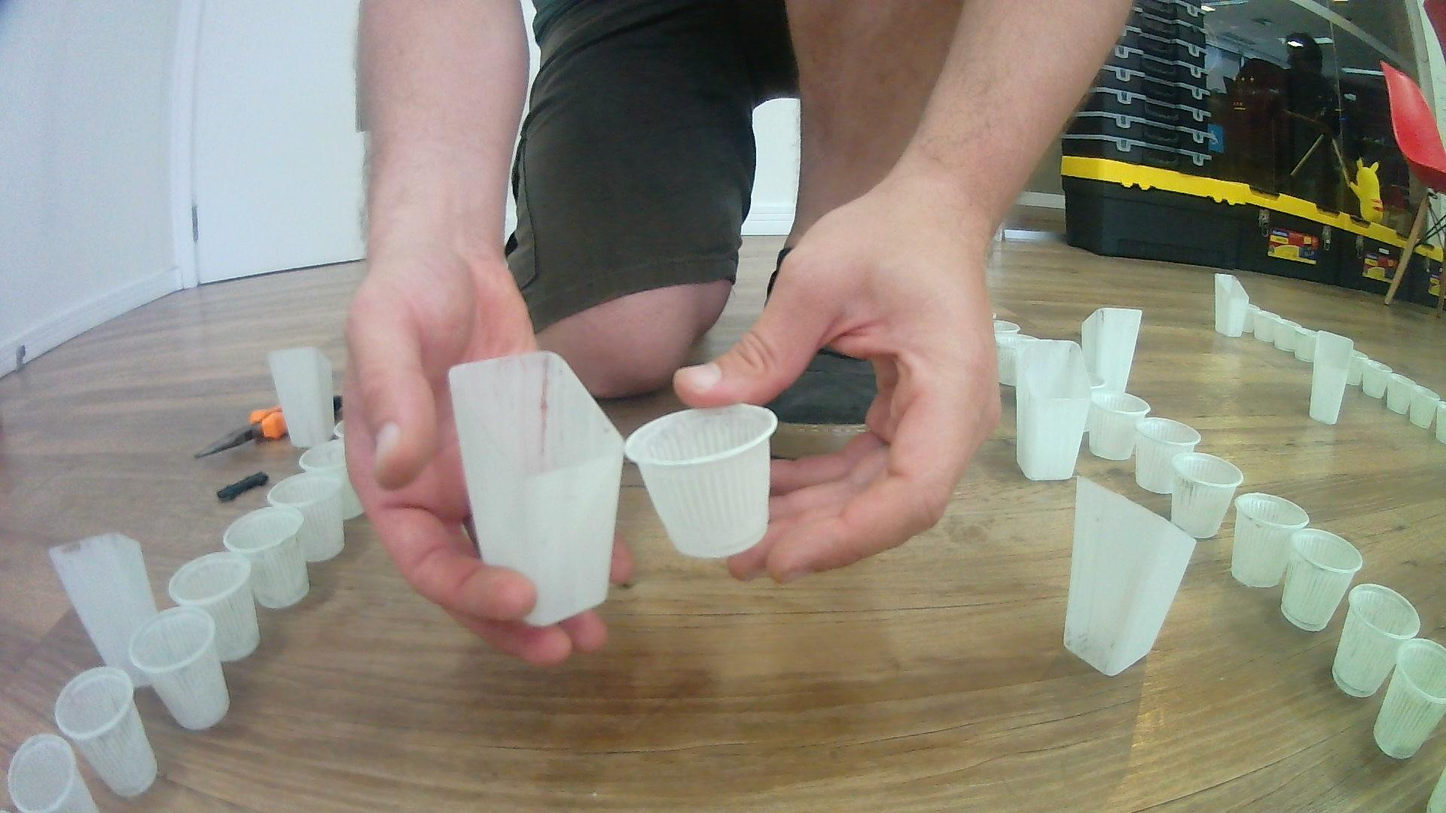erva_daninha: (445, 349, 624, 629), (1059, 470, 1199, 678), (47, 530, 162, 679), (1012, 337, 1093, 481), (267, 346, 337, 450), (1081, 306, 1144, 394), (1309, 329, 1354, 425), (1214, 272, 1254, 336)
planta: (620, 402, 779, 561), (54, 664, 163, 798), (128, 605, 232, 732), (166, 550, 263, 663), (1331, 583, 1422, 698), (221, 505, 312, 610), (1280, 525, 1364, 633), (1374, 638, 1446, 760), (6, 733, 107, 813), (1232, 492, 1310, 589), (267, 472, 347, 564), (1167, 451, 1244, 540), (298, 439, 364, 522), (1134, 417, 1202, 495), (1087, 390, 1152, 462), (998, 334, 1036, 388), (1408, 386, 1442, 430), (992, 320, 1022, 364), (1242, 305, 1275, 343), (1386, 373, 1415, 416), (1362, 359, 1393, 399), (1292, 325, 1323, 362), (1271, 315, 1298, 352), (1344, 350, 1370, 386), (1435, 400, 1446, 444)
